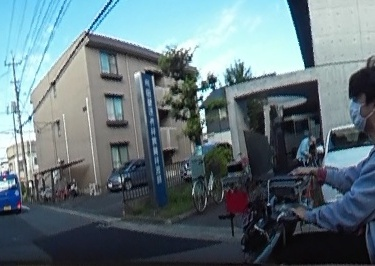person: (286, 57, 375, 266), (294, 133, 314, 164)
